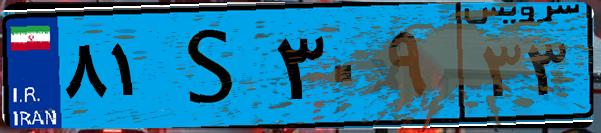0: (330, 28, 385, 110)
1: (110, 28, 158, 98)
3: (270, 28, 330, 110), (475, 38, 525, 113), (525, 38, 570, 115)
8: (57, 26, 110, 100)
9: (385, 28, 445, 110)
S: (158, 12, 270, 120)
